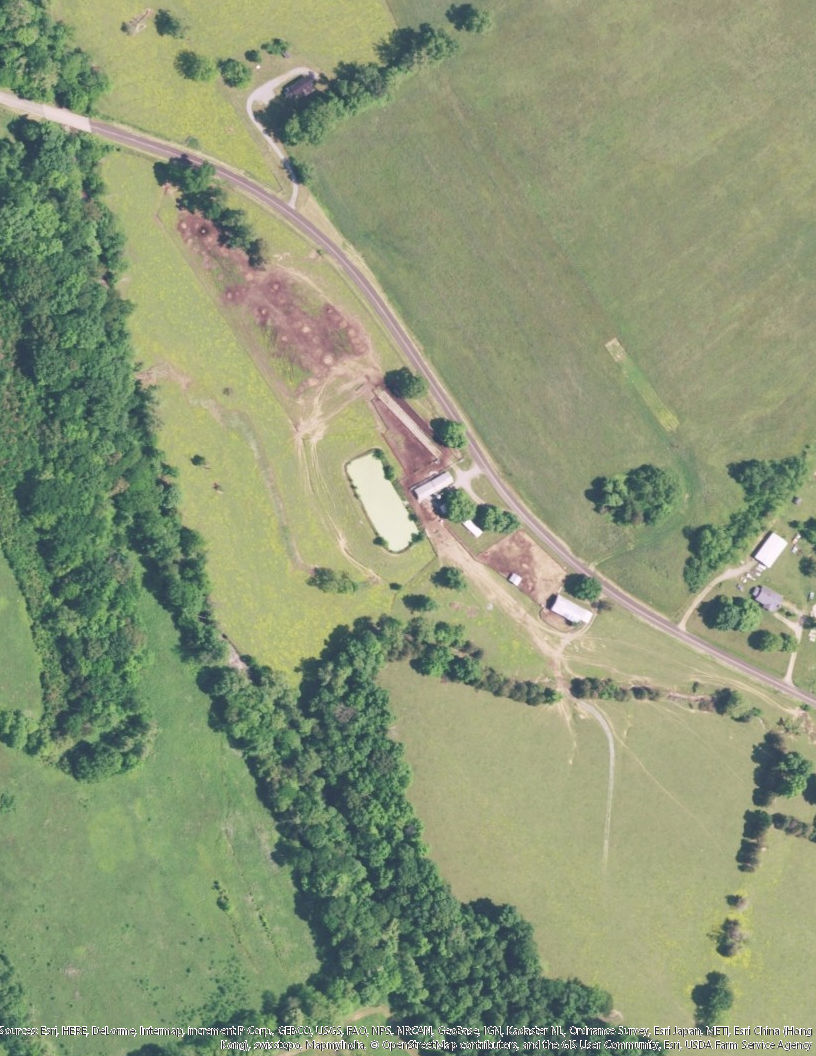cafo: (412, 465, 458, 507)
